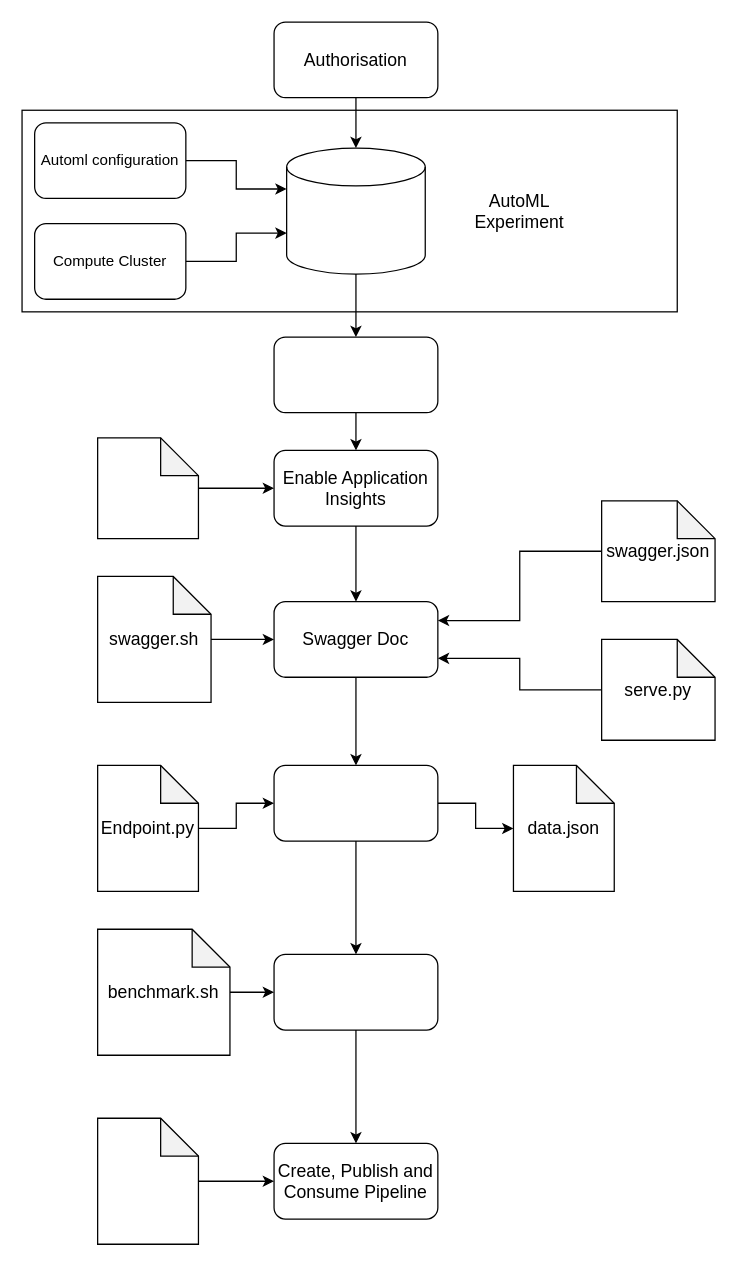
Some shapes in this 737 by 1266 pixel diagram are drawn without their labels. Each missing label, with the centre of its shape:
Bank Dataset: (x=355, y=210)
Benchmark Model: (x=355, y=991)
Consume Endpoint: (x=355, y=802)
Deploy Model: (x=355, y=374)
Jupyter Notebook: (x=147, y=1180)
Log.py: (x=147, y=488)
